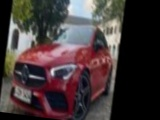car: (8, 16, 119, 120)
